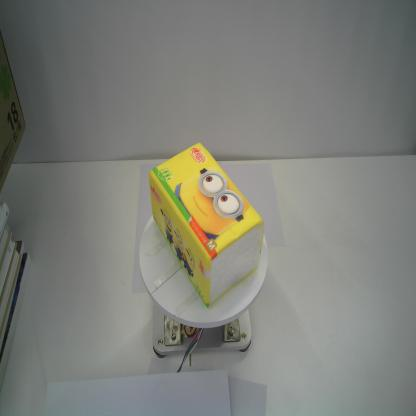Tissue: (146, 141, 266, 310)
